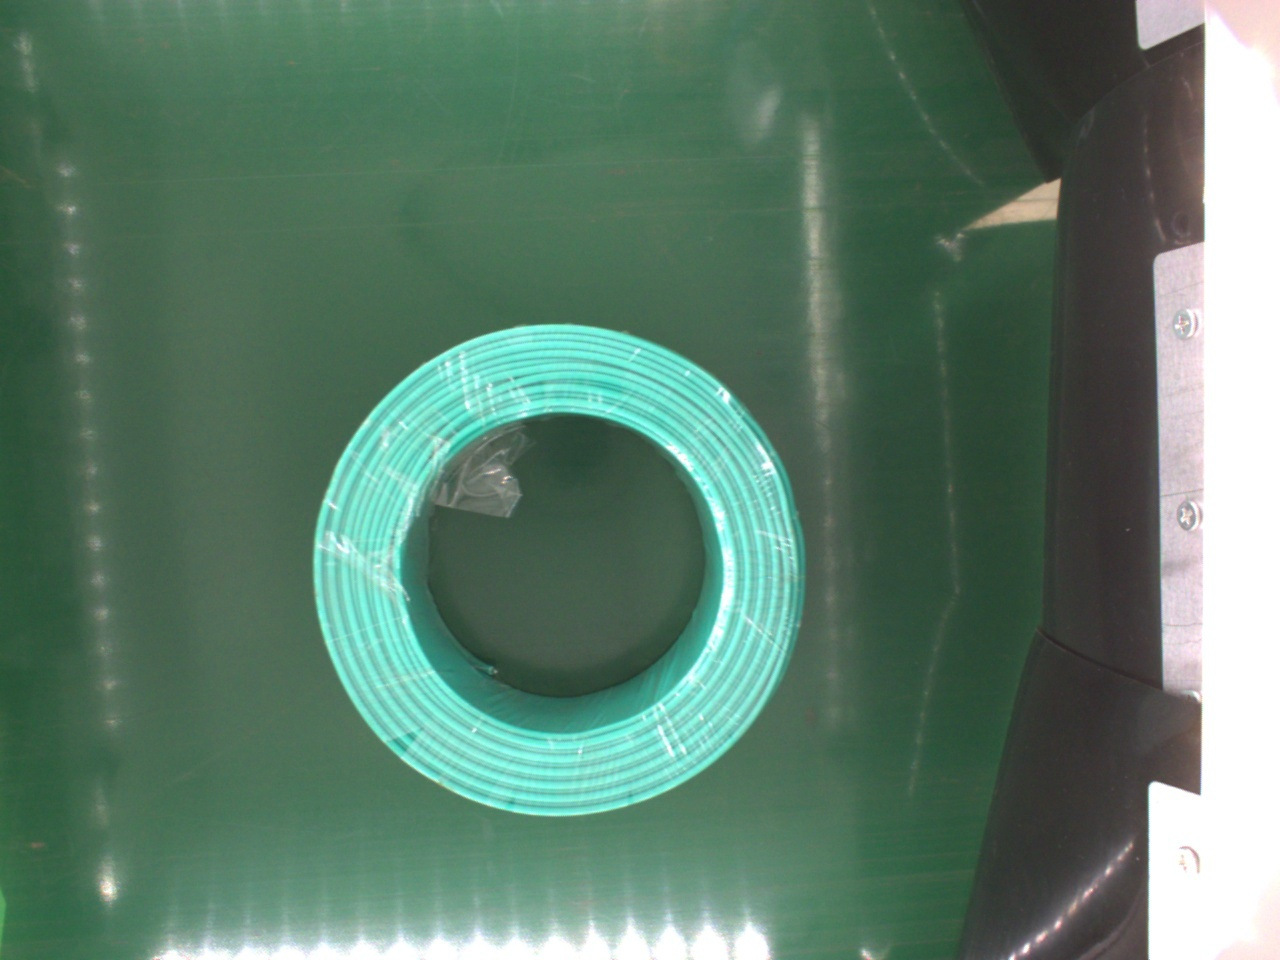green: (307, 320, 808, 819)
